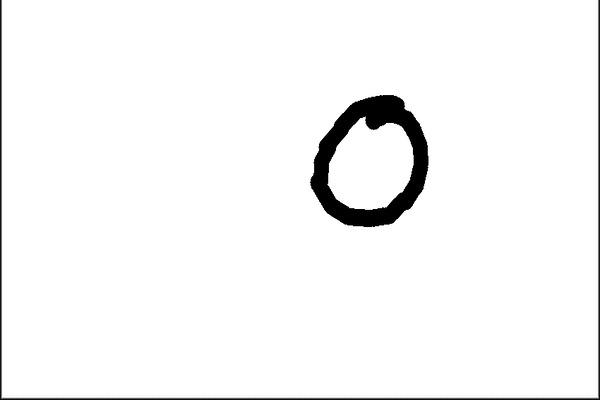O: (299, 82, 438, 243)
